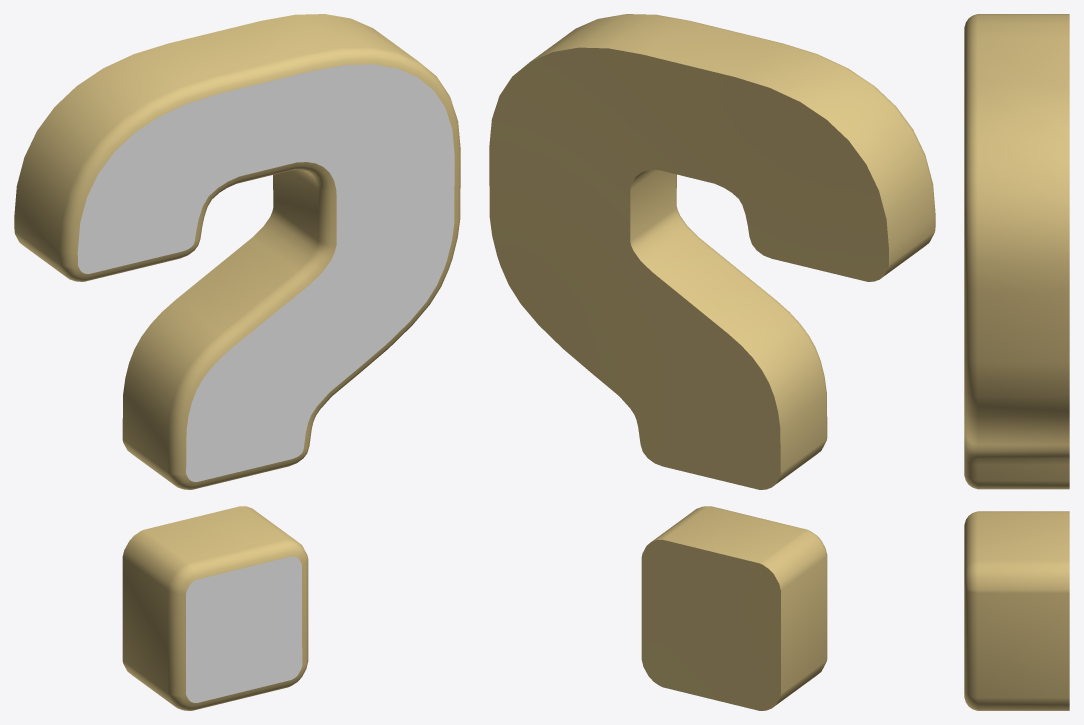
Rendered from LettersLightUp02_S2.FBX.
3 renders of one model, left to right at view 1: azimuth 30°, elevation 25°; view 2: azimuth 150°, elevation 25°; view 3: azimuth 270°, elevation 25°, orthographic.
Visible parts, largest first — view 1: LettersLightUp02_S2; view 2: LettersLightUp02_S2; view 3: LettersLightUp02_S2.
Boxes of the visible parts, box(x1,y1,x2,y2) form: LettersLightUp02_S2: box(14, 14, 460, 710); LettersLightUp02_S2: box(489, 14, 935, 710); LettersLightUp02_S2: box(964, 14, 1069, 710).
Size of what is drawn, in the model's own units: 0.405 by 0.6078 by 0.0912.
